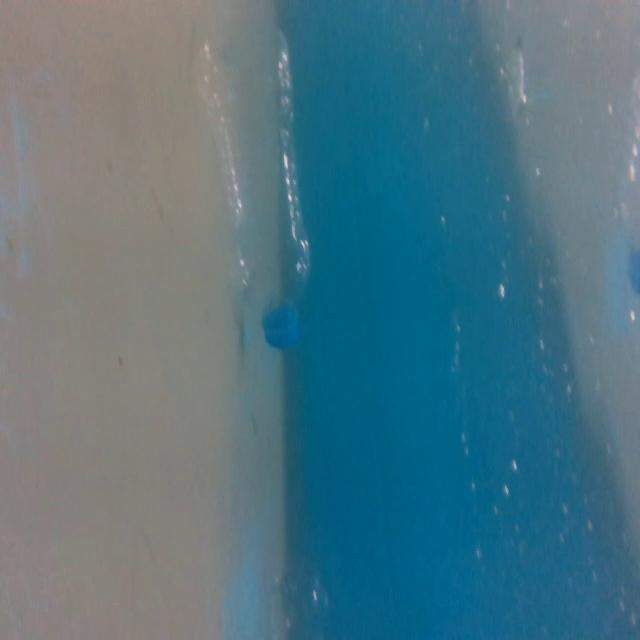plastic bottle: (194, 20, 333, 351)
